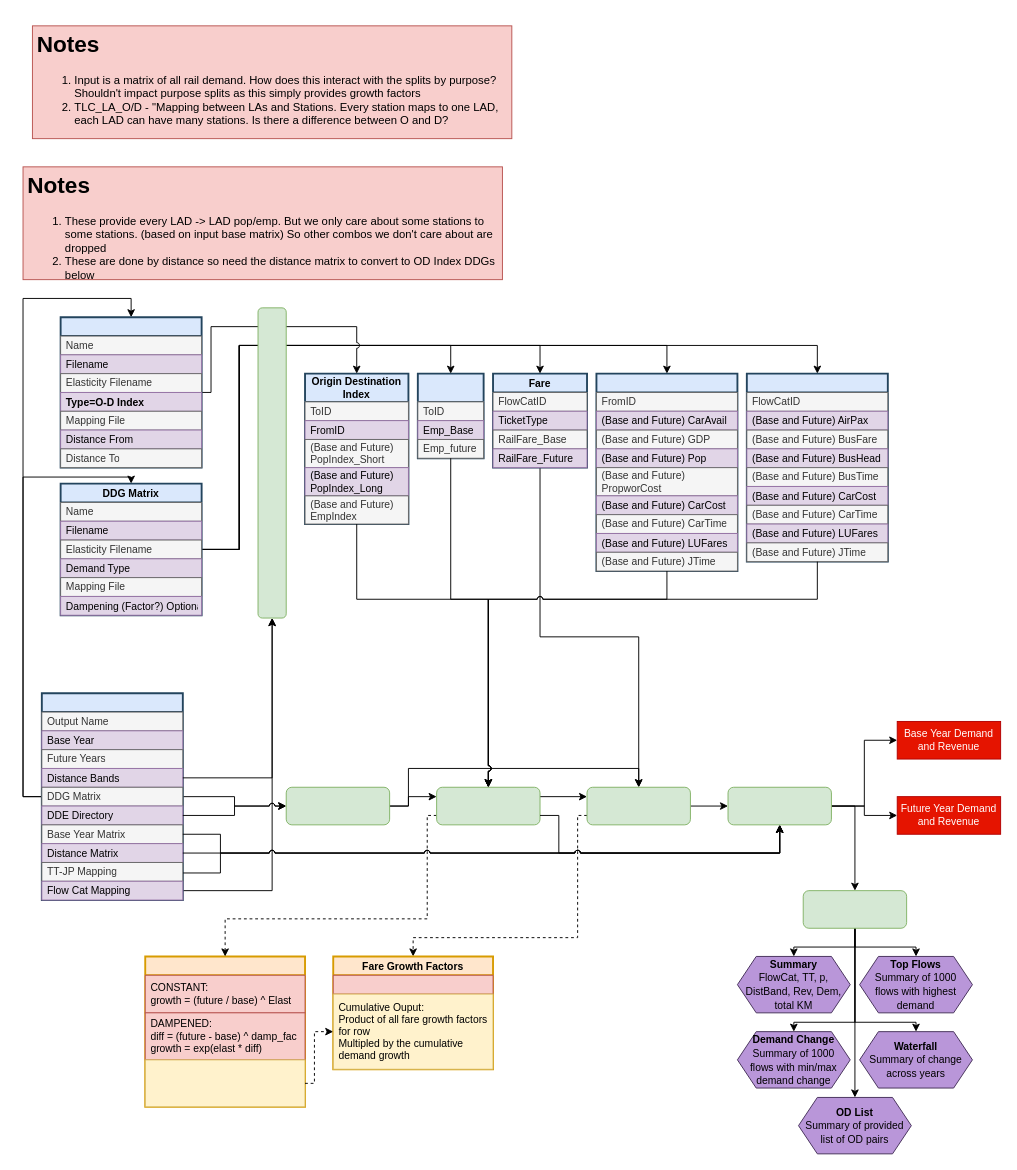
Some shapes in this 1017 by 1170 pixel diagram are drawn without their labels. Here are the shapes that lost their labels. From the top down, the box of each, then its label:
(59, 316, 202, 468): Pop/Emp DDGs
(416, 372, 484, 459): Destination Based
(257, 307, 286, 618): Process DDGs (All but FARE and FLOW based need translating to stations)
(595, 372, 738, 572): Origin Based
(745, 372, 888, 562): Flow Based
(40, 692, 183, 901): Input Excel Sheet
(285, 786, 390, 825): Read in Elasticities and map to DDGs
(436, 786, 540, 825): Generate Demand Growth Factors
(586, 786, 690, 825): Generate Fare Growth Factors
(727, 786, 831, 825): Apply Growth to base year
(802, 890, 907, 928): Generate reports
(332, 974, 493, 994): fare_growth = future / base
(144, 955, 306, 1107): Demand Growth Factors
(144, 1059, 305, 1107): Cumulative Ouput: Product of all elast growth factors for row
